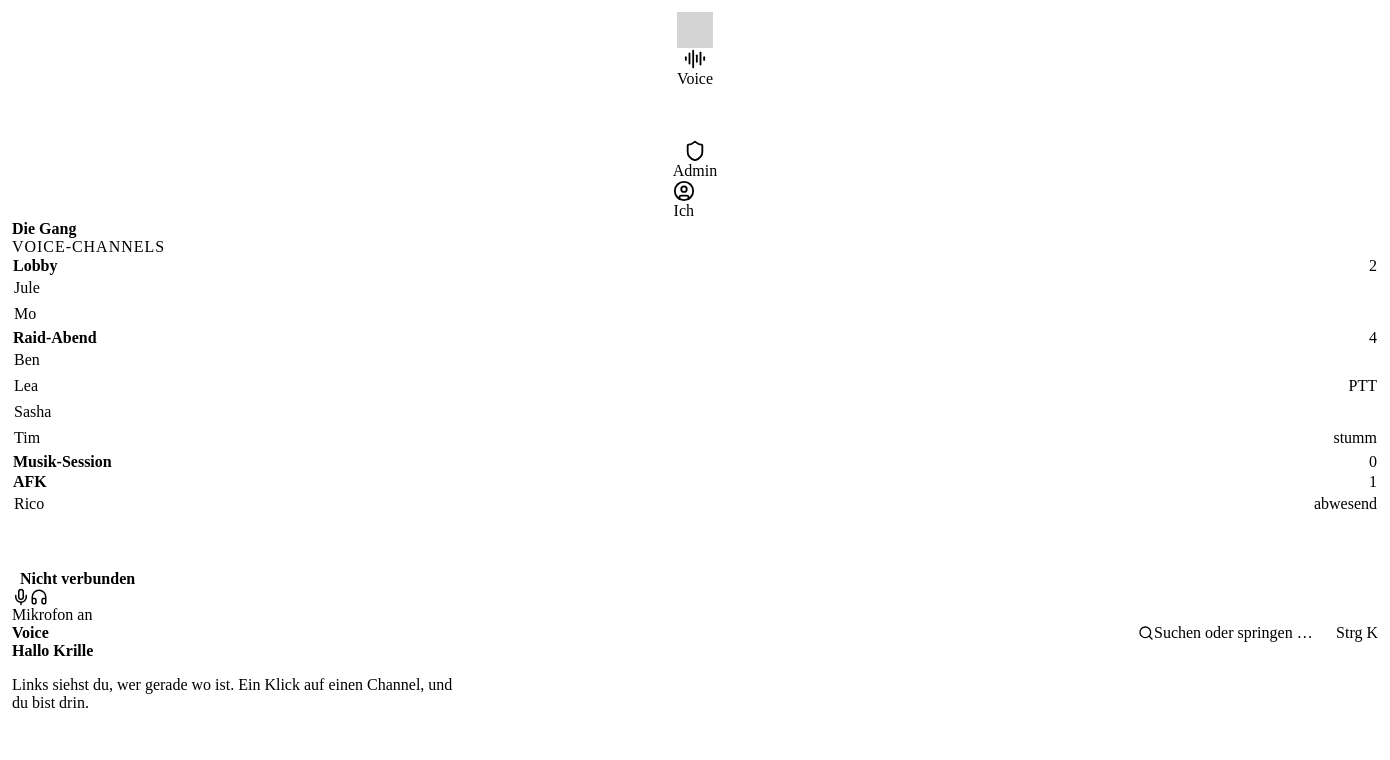
Test: Settings: Einfach und Profi › goes back to „Audio und Sprechen“ when Einfach hides the open section
Expected: the heading "Hallo Krille" is shown, x1=12 y1=642 x2=93 y2=659
Click the button "Ich": (684, 200) x1=673 y1=180 x2=695 y2=220
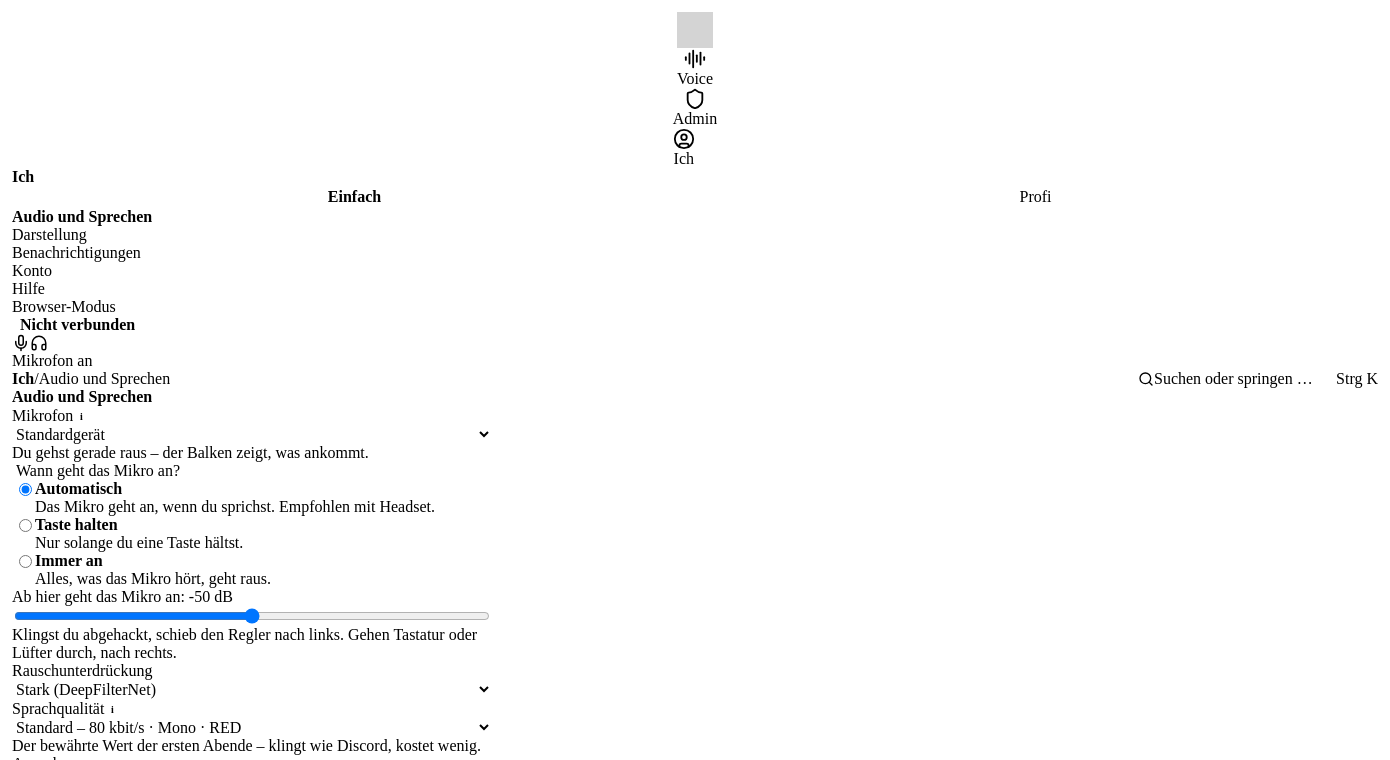
Click the radio button labelled "Profi": (1036, 196) x1=1020 y1=188 x2=1052 y2=205
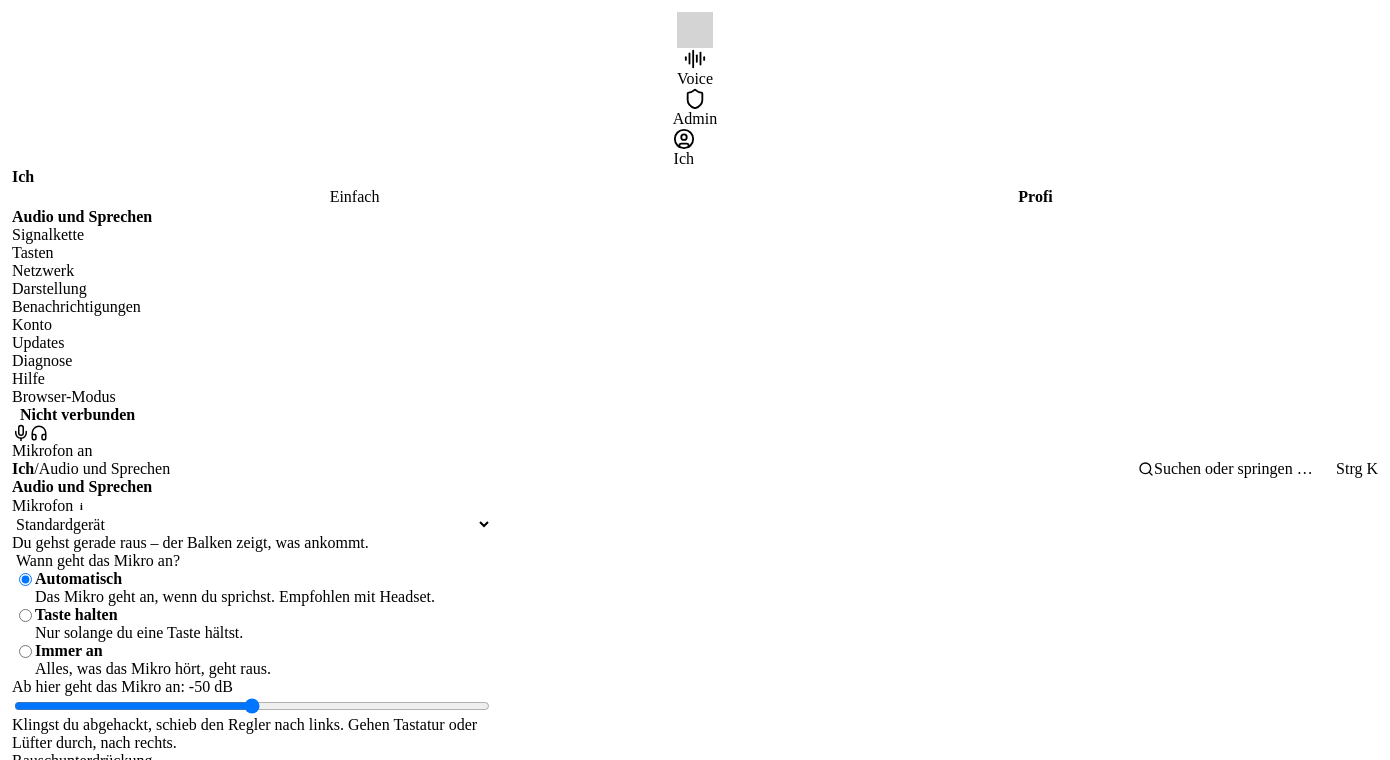
Click the button "Netzwerk": (43, 270) x1=12 y1=262 x2=1378 y2=280
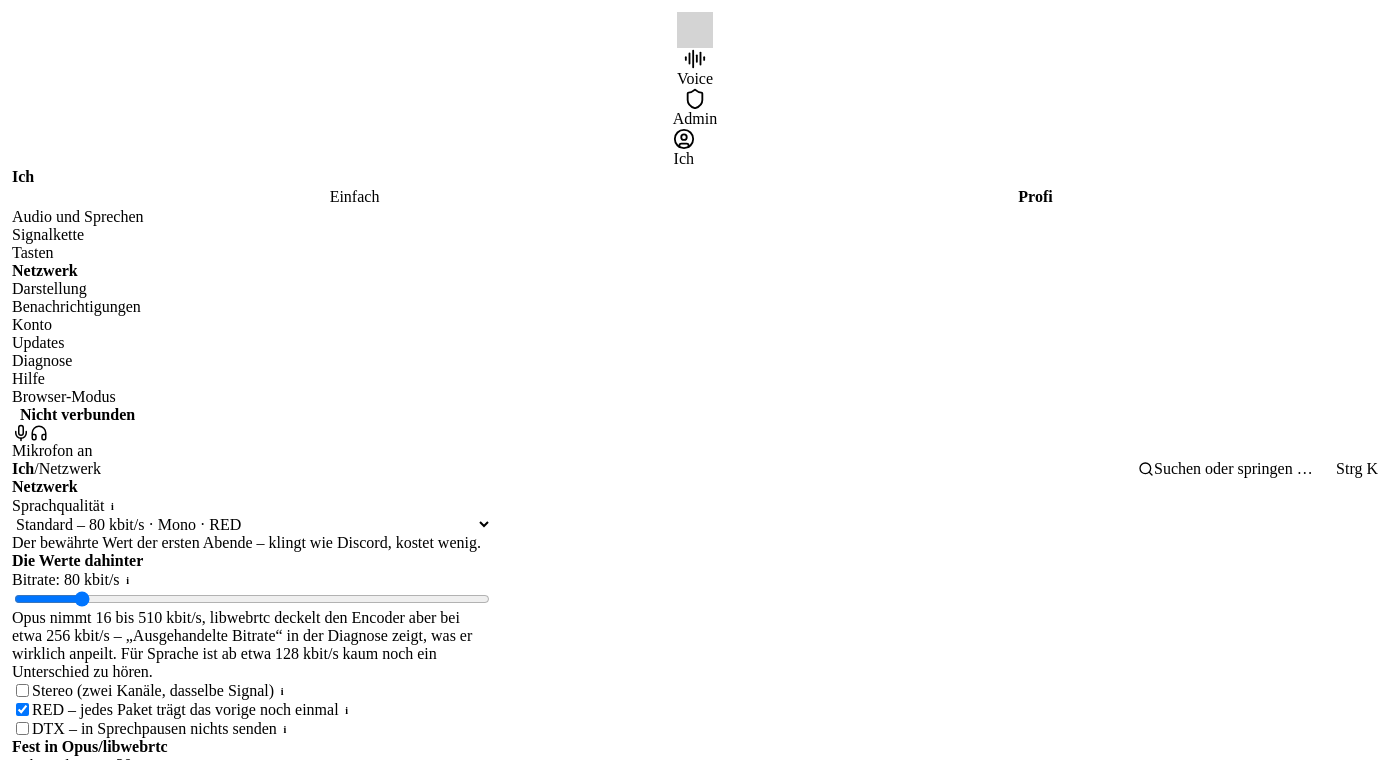
Now the heading "Netzwerk" is shown, box x1=12 y1=478 x2=78 y2=495
Click the radio button labelled "Einfach": (354, 196) x1=330 y1=188 x2=379 y2=205
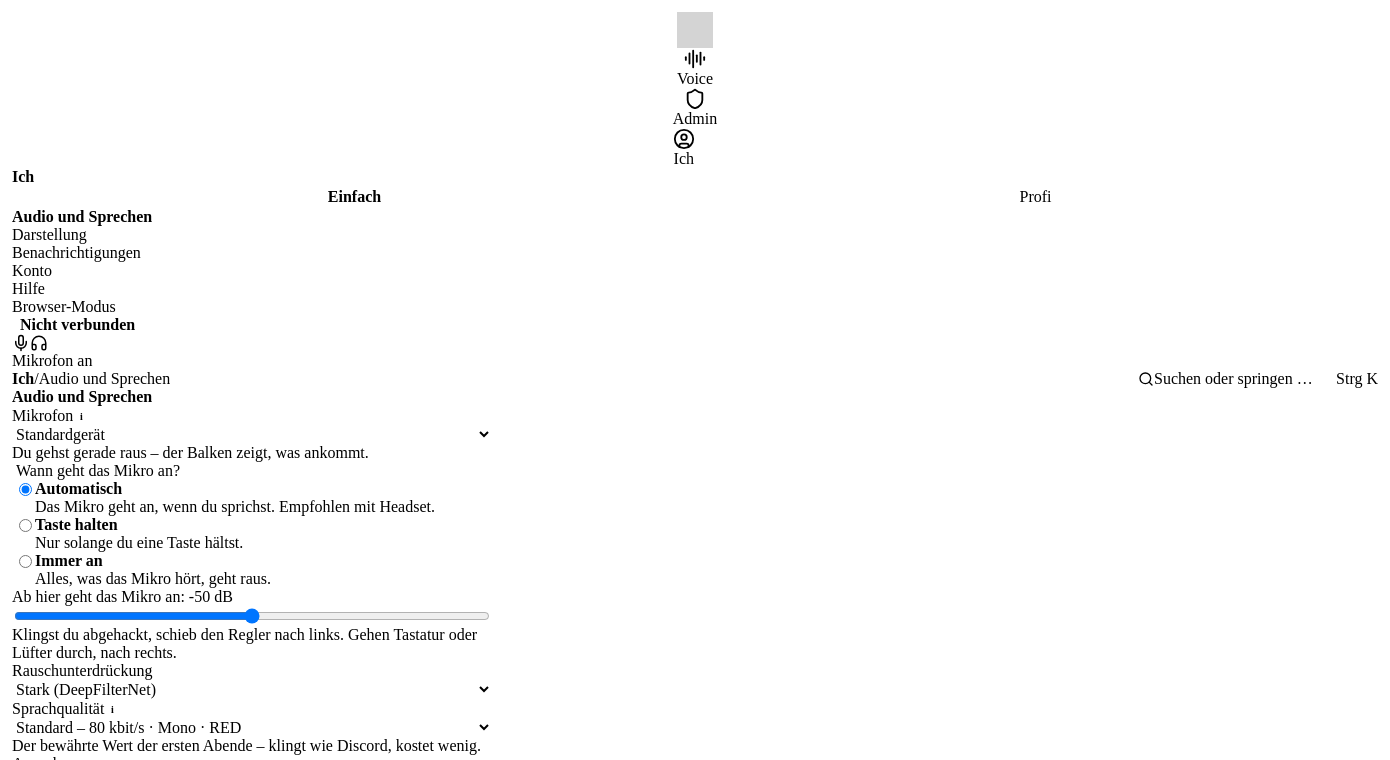
Now the heading "Audio und Sprechen" is shown, box x1=12 y1=388 x2=152 y2=405
